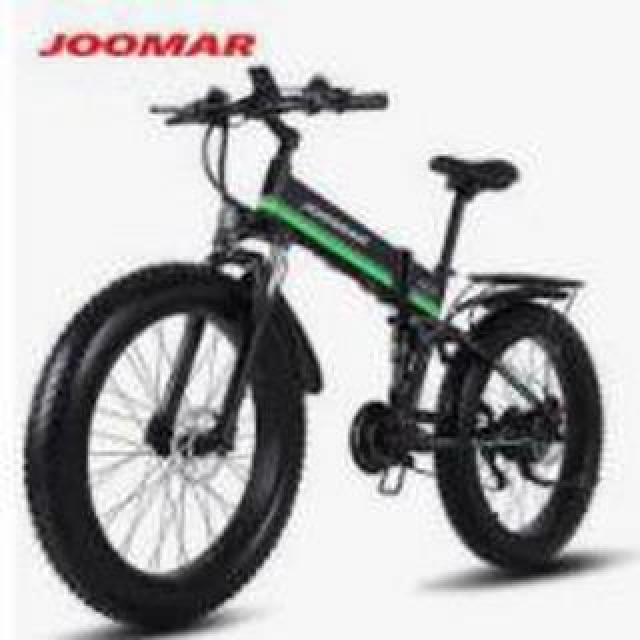Person: (24, 58, 608, 630)
